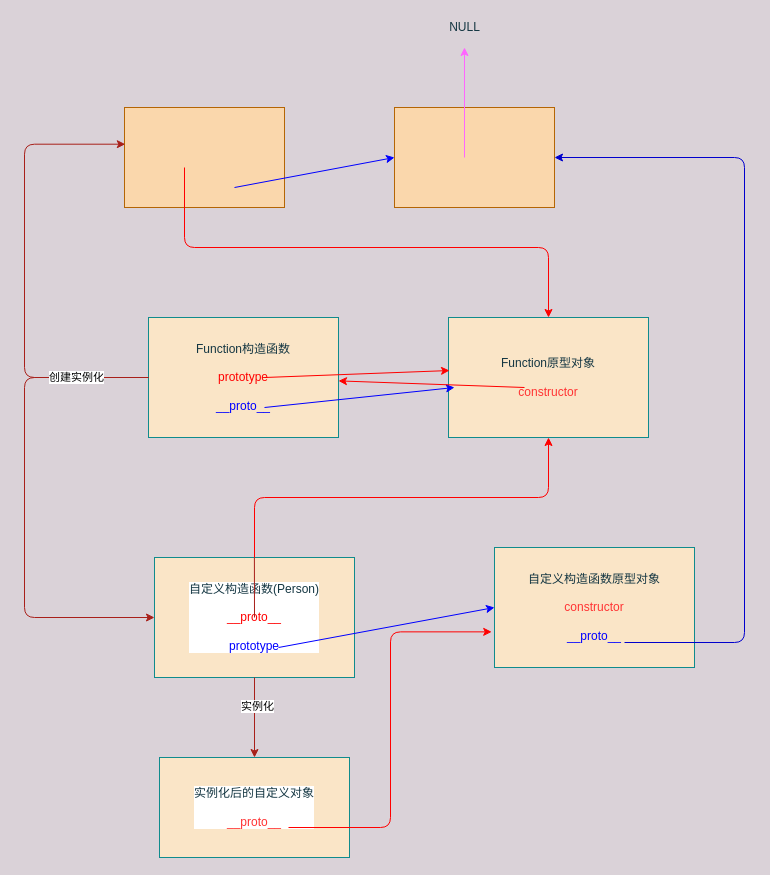
Some shapes in this 770 by 875 pixel diagram are drawn without their labels. The box of each missing label's shape, as (x1, y1, x2, y2) in pixels:
Object原型对象 __proto__ constructor: (394, 106, 554, 208)
Object构造函数 __proto__ prototype: (124, 106, 284, 208)
